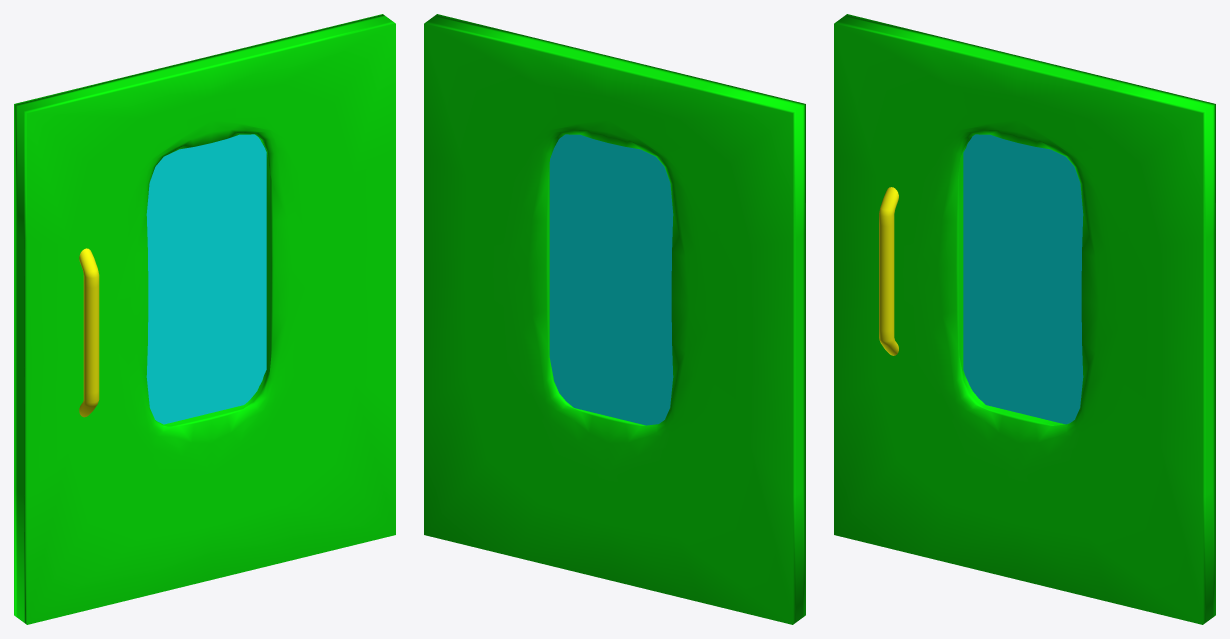
File: porte sortie droite.fbx
3 renders of one model, left to right at view 1: azimuth 30°, elevation 25°; view 2: azimuth 150°, elevation 25°; view 3: azimuth 330°, elevation 25°, orthographic.
Parts seen in each view (by area): view 1: pPlane12, pCube180, pCylinder19; view 2: pPlane12, pCube180; view 3: pPlane12, pCube180, pCylinder19.
Boxes of the visible parts, x1,y1,x2,y2 form: pPlane12: [14, 14, 395, 624]; pCube180: [146, 134, 266, 424]; pCylinder19: [79, 248, 99, 417]; pPlane12: [424, 14, 805, 624]; pCube180: [549, 134, 673, 425]; pPlane12: [834, 14, 1215, 624]; pCube180: [963, 134, 1083, 424]; pCylinder19: [879, 187, 898, 355].
Size of the model in its own units: 4.88 by 6.47 by 0.523.
